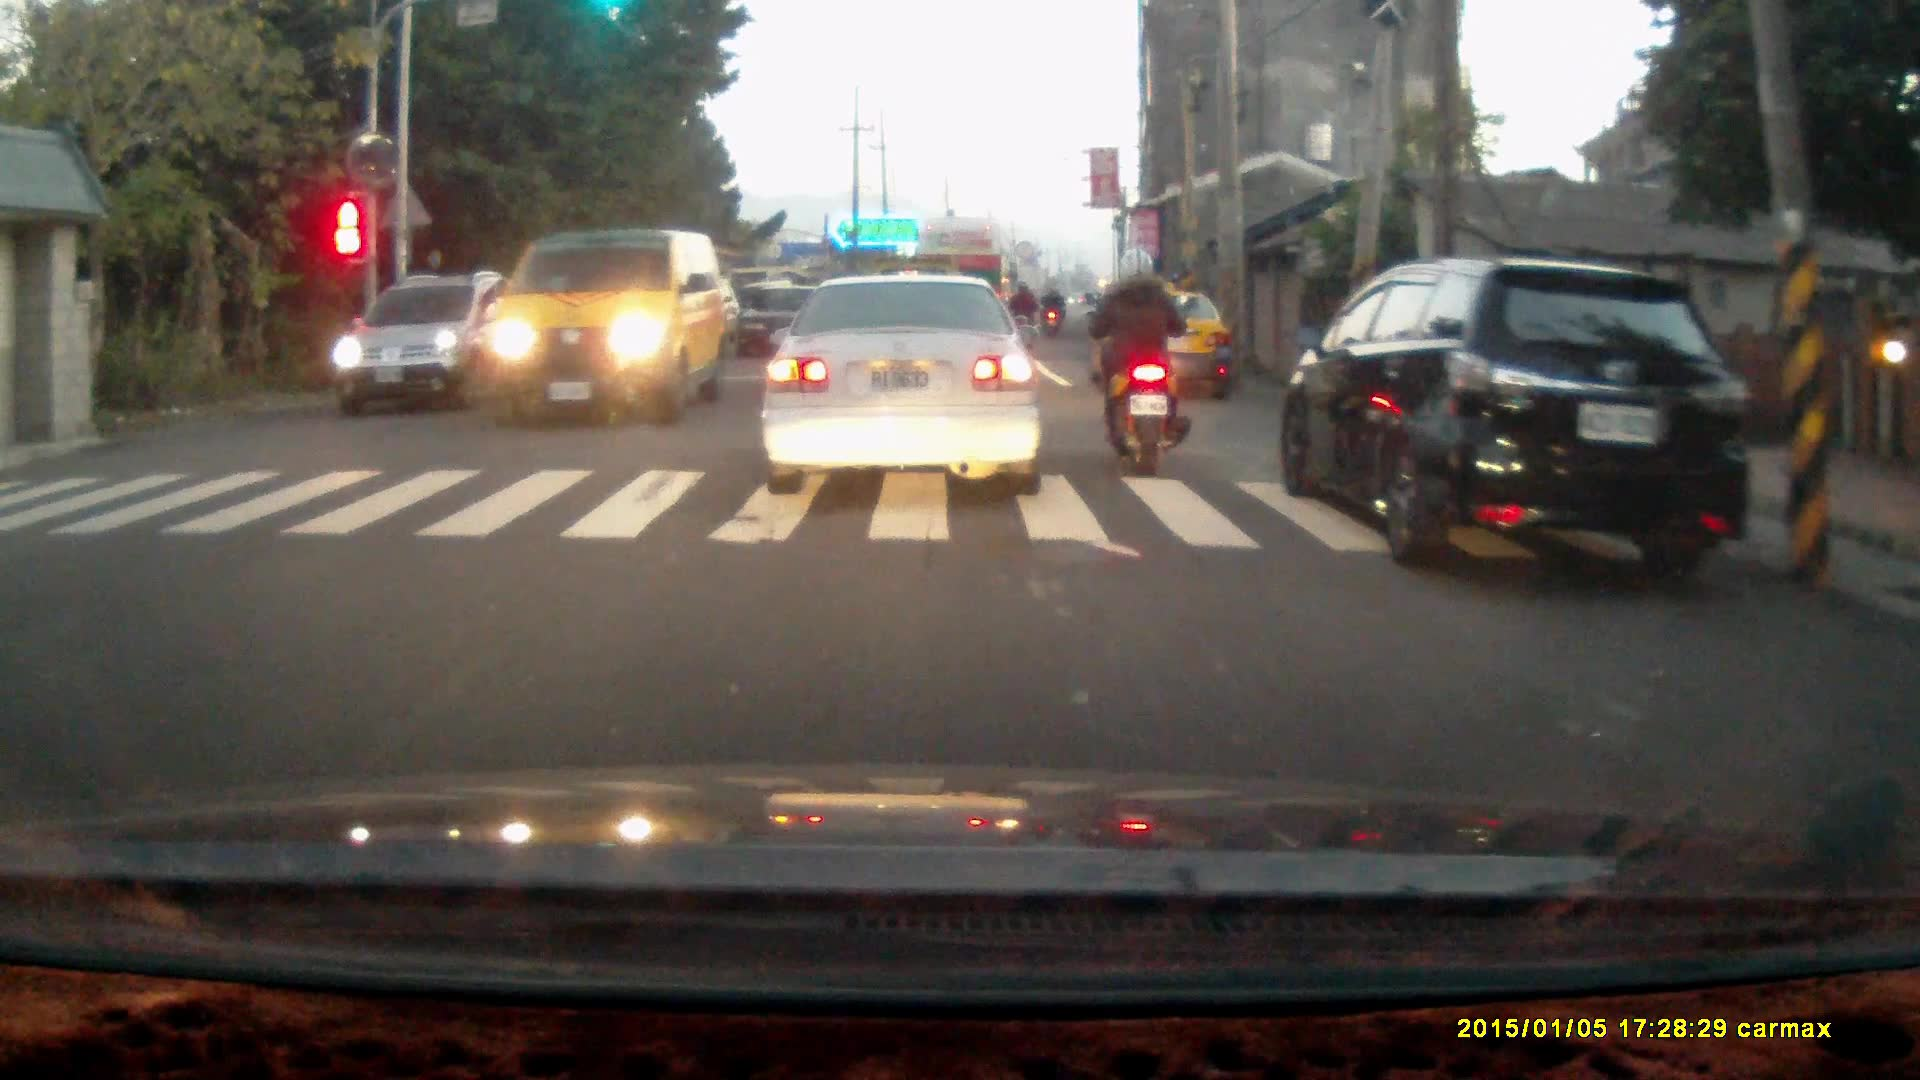rider: (1084, 246, 1188, 477)
vehicle: (1286, 261, 1761, 577), (763, 270, 1049, 496), (482, 231, 723, 434), (329, 275, 520, 411), (1095, 290, 1237, 412), (913, 216, 1017, 352)
